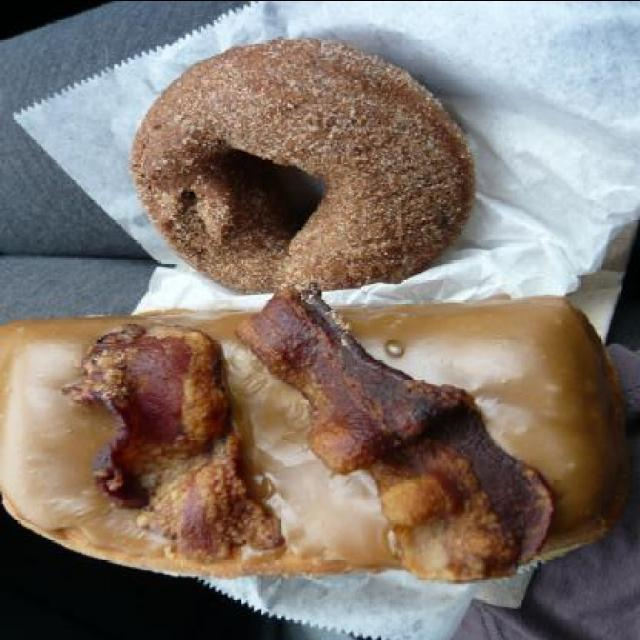Bagel: (132, 34, 470, 298)
